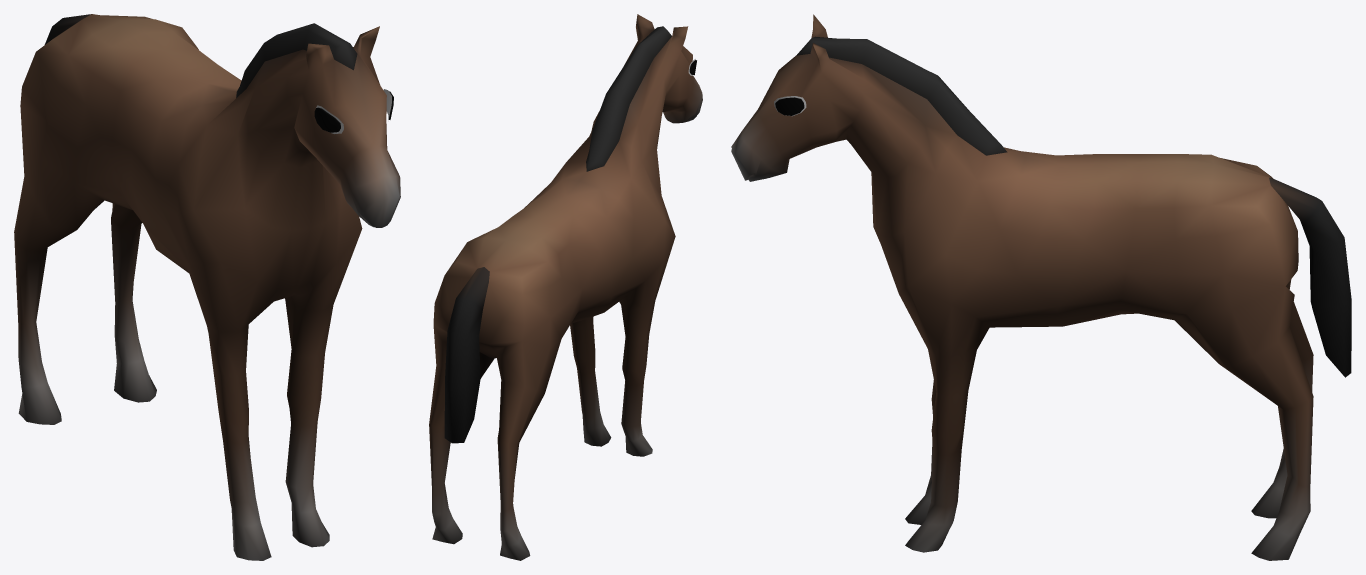
The model's file is ChestnutHorse.fbx.
3 views of the same model, side by side, from view 1: azimuth 30°, elevation 25°; view 2: azimuth 150°, elevation 25°; view 3: azimuth 270°, elevation 25° (orthographic). The views are drawn at different scales.
Parts seen in each view (by area): view 1: base.020; view 2: base.020; view 3: base.020.
Boxes of the visible parts, box(x1,y1,x2,y2) form: base.020: box(14, 14, 400, 560); base.020: box(429, 14, 702, 560); base.020: box(731, 14, 1351, 560).
Size of the model in its own units: 0.5605 by 1.91 by 2.14.
